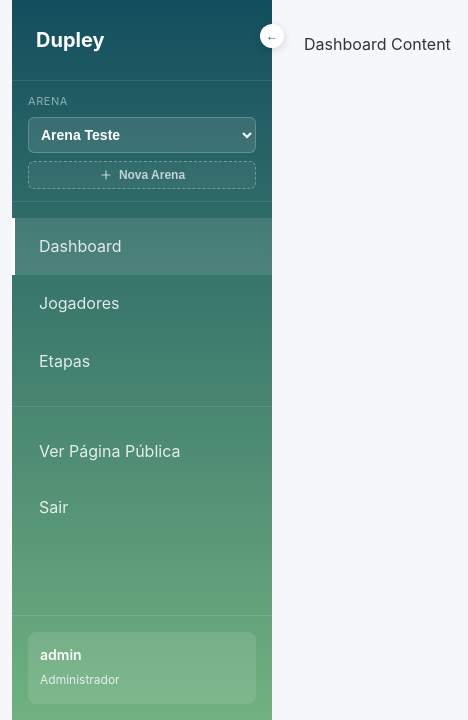
it: AdminLayout › navegação › deve navegar para etapas ao clicar
Click the link "Etapas" at coordinates (65, 361), box [39,351,90,371]
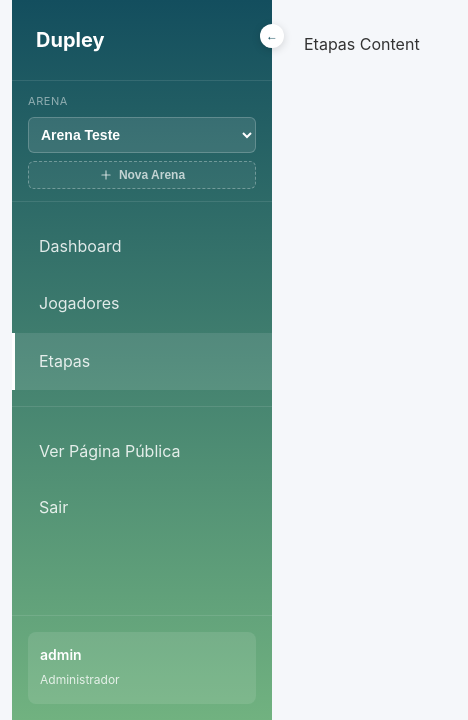
Now the text "Etapas Content" is shown, box [304,34,420,54]
